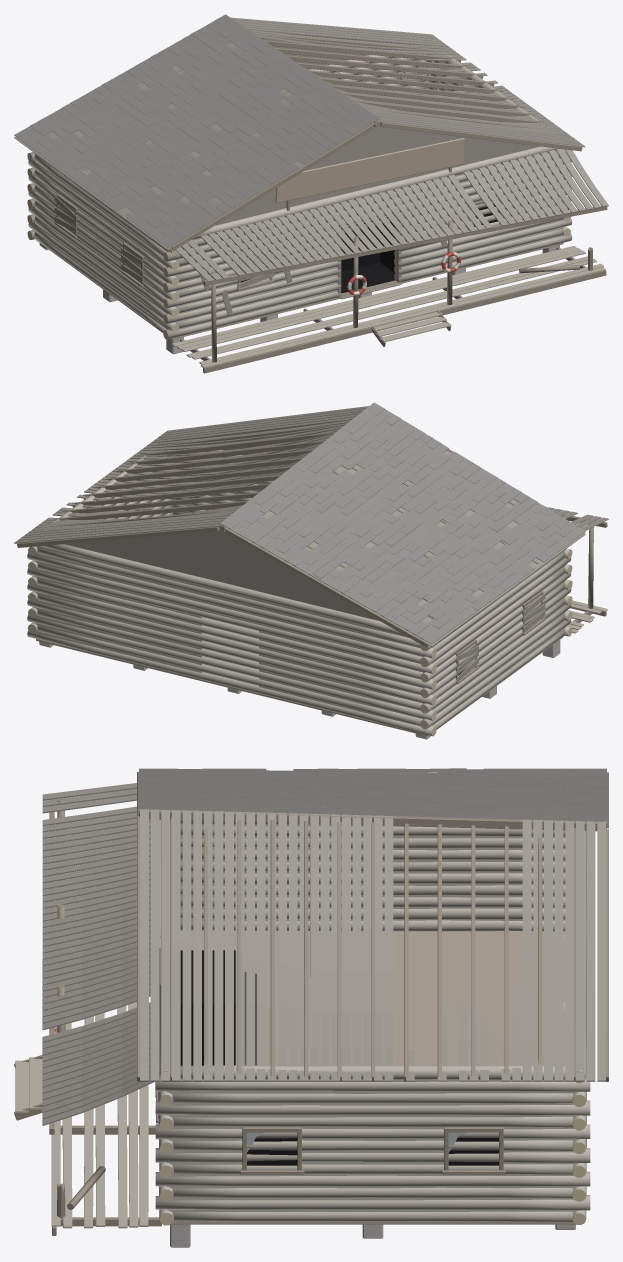
The model's file is rescue_station.glb.
3 renders of one model, top to bottom at view 1: azimuth 30°, elevation 25°; view 2: azimuth 150°, elevation 25°; view 3: azimuth 270°, elevation 25°, orthographic. The views are drawn at different scales.
Parts seen in each view (by area): view 1: rescue_station; view 2: rescue_station; view 3: rescue_station.
Part boxes in pixels (x1,y1,x2,y2): rescue_station: (14, 14, 608, 373); rescue_station: (14, 402, 608, 739); rescue_station: (14, 768, 608, 1247).
Bounding box in the file's own units: 16.01 × 7.18 × 12.97.
